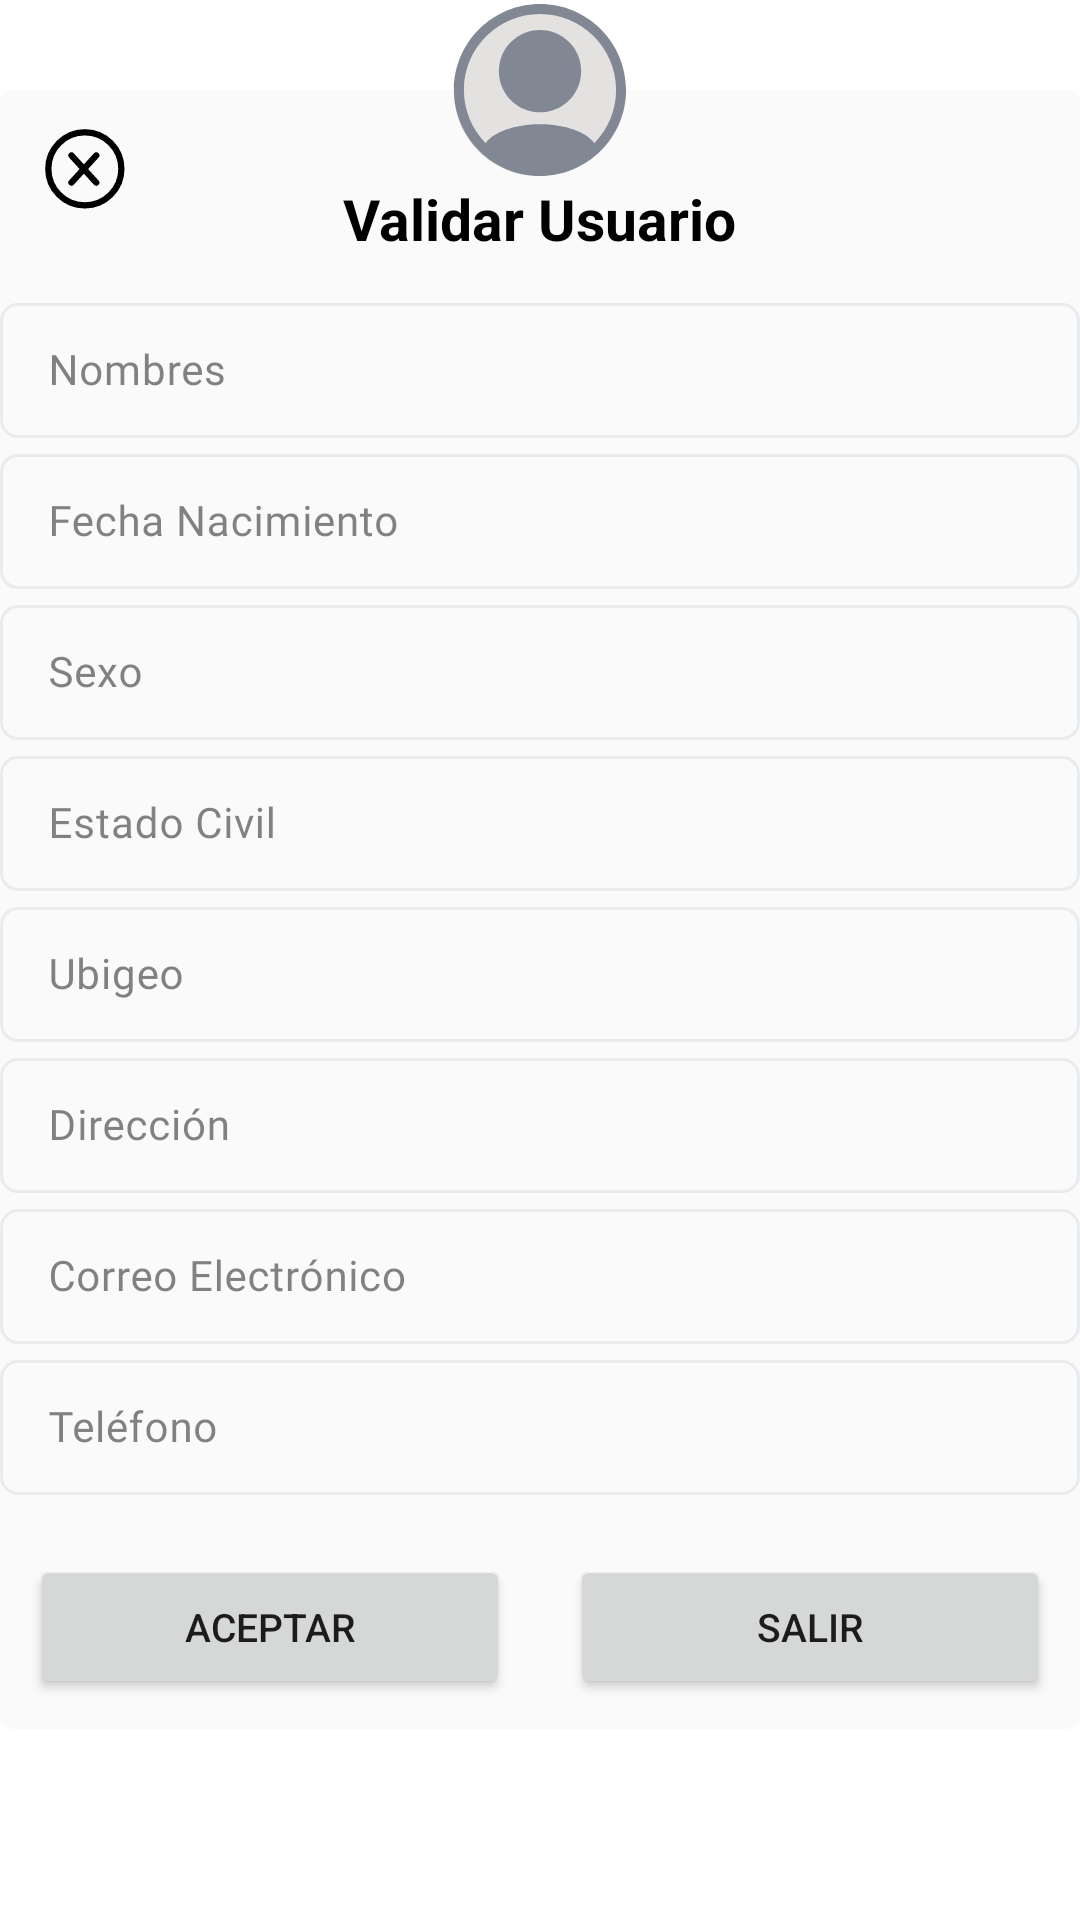

Icons on this 1080 × 1920 Android screen, each with its box as {"left": x1, "top": y1, "right": x2, "bottom": y2}:
cancel: {"left": 45, "top": 129, "right": 125, "bottom": 209}
